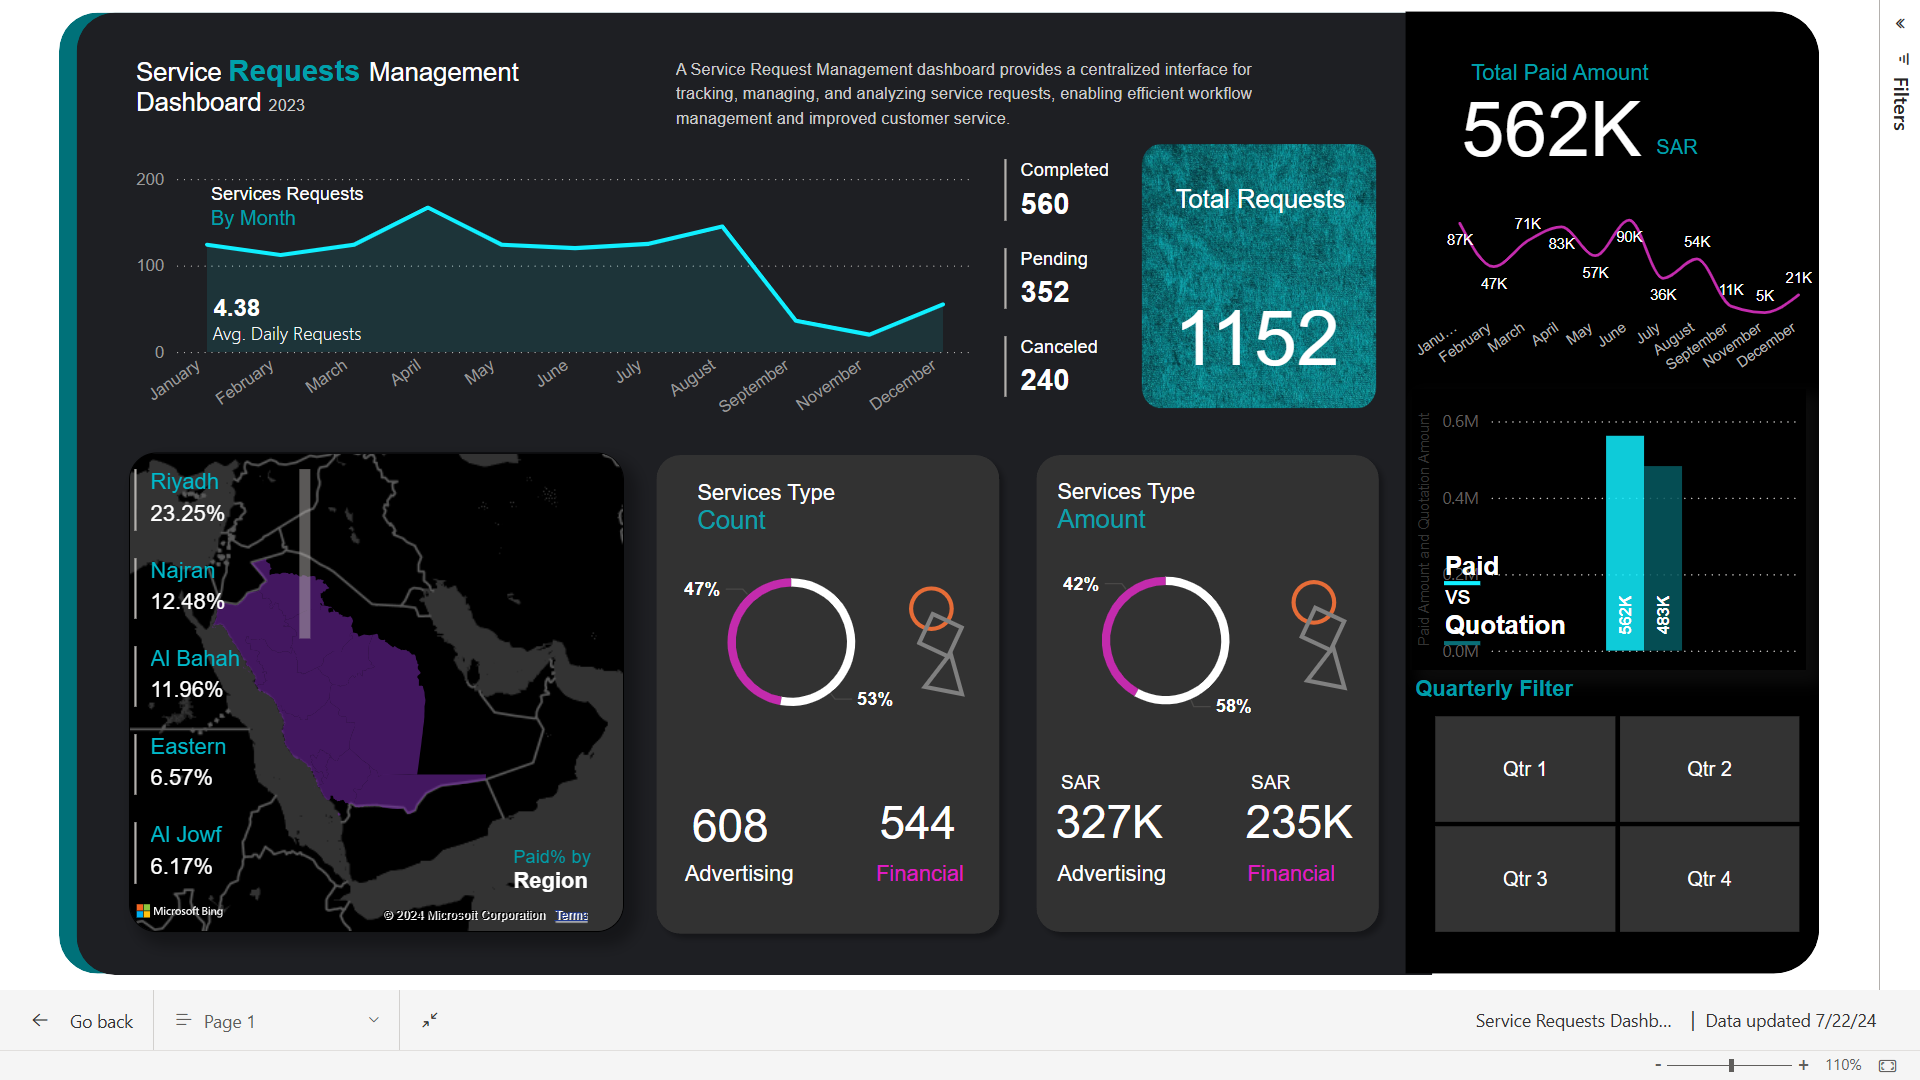

The page's visual inventory and layout, read from the dashboard file:
{"tool":"powerbi","page":{"name":"Page 1","canvas":[1280,720],"ordinal":0},"visuals":[{"type":"shape","box":[0,9,999,699],"z":0},{"type":"shape","box":[702.3,322.1,267.1,365],"z":0,"group":"g1"},{"type":"shape","box":[896.5,422.3,32.6,32.6],"z":0,"group":"g2"},{"type":"shape","box":[618.4,426.7,32.6,32.6],"z":0,"group":"g3"},{"type":"shape","box":[12.8,9.3,986,700],"z":1000},{"type":"donutChart","fields":{"Category":["Service_Type.Service Type"],"Y":["Sum(Request_Status.Paid Amount)"]},"box":[720.6,393.9,168.3,144.8],"z":1000,"group":"g1"},{"type":"shape","box":[902.3,440.9,34.9,34.9],"z":1000,"group":"g2"},{"type":"shape","box":[624.2,445.3,34.9,34.9],"z":1000,"group":"g3"},{"type":"shape","box":[978.8,8.5,301.2,700],"z":2000},{"type":"textbox","box":[721.1,344,158.1,55.7],"z":2000,"group":"g1"},{"type":"shape","box":[903.5,467.6,34.9,34.9],"z":2000,"group":"g2"},{"type":"shape","box":[625.4,472,34.9,34.9],"z":2000,"group":"g3"},{"type":"textbox","box":[51.2,34.9,308.1,57],"z":3000},{"type":"card","fields":{"Values":["Service_Type.Advertising Paid Amount"]},"box":[691.9,554.7,144.2,84.7],"z":3000,"group":"g1"},{"type":"lineChart","fields":{"Category":["Locations.Date.Variation.Date Hierarchy.Month"],"Y":["CountNonNull(Locations.Request Number)"]},"box":[45.2,116.5,624.1,205.8],"z":4000},{"type":"card","fields":{"Values":["Service_Type.Financial Paid Amount"]},"box":[830.5,554.7,144.2,84.7],"z":4000,"group":"g1"},{"type":"textbox","box":[105.8,126.7,184.9,50],"z":5000},{"type":"textbox","box":[721,622.2,102.3,47.6],"z":5000,"group":"g1"},{"type":"textbox","box":[859.3,621.9,102.3,47.6],"z":6000,"group":"g1"},{"type":"textbox","box":[448.8,622.1,102.3,47.7],"z":6000},{"type":"card","fields":{"Values":["Locations.Avg. of Daily Requests"]},"box":[70,177,119,96],"z":7000},{"type":"textbox","box":[723.3,554.7,102.3,47.6],"z":7000,"group":"g1"},{"type":"textbox","box":[106.3,228.4,183.2,45.2],"z":8000},{"type":"textbox","box":[861.7,554.7,102.3,47.6],"z":8000,"group":"g1"},{"type":"multiRowCard","fields":{"Values":["Request_Status.Request Number","Request_Status.Request Status"]},"box":[683,111,132,208],"z":9000},{"type":"image","box":[782.6,100,180.2,202],"z":10000},{"type":"textbox","box":[781.4,130.2,183.7,37.2],"z":11000},{"type":"card","fields":{"Values":["CountNonNull(Request_Status.Request Number)"]},"box":[759.3,179.1,224.4,125.6],"z":12000},{"type":"textbox","box":[998.8,39.5,184.9,50],"z":13000},{"type":"card","fields":{"Values":["Sum(Request_Status.Paid Amount)"]},"box":[939,50,293,80],"z":14000},{"type":"textbox","box":[1120.9,93,111.6,36],"z":15000},{"type":"lineChart","fields":{"Category":["Locations.Date.Variation.Date Hierarchy.Month"],"Y":["Sum(Request_Status.Paid Amount)"]},"box":[979.1,138.4,301.2,144.2],"z":16000},{"type":"clusteredColumnChart","fields":{"Y":["Sum(Request_Status.Paid Amount)","Sum(Request_Status.Quotation Amount)"]},"box":[983.7,282.6,287.2,204.7],"z":17000},{"type":"textbox","box":[1002.3,396.5,167.4,79.1],"z":18000},{"type":"shape","box":[1007,414,26.7,20.9],"z":19000},{"type":"shape","box":[1007,457,26.7,20.9],"z":20000},{"type":"filledMap","fields":{"Category":["Locations.Province"]},"box":[50.6,329,360,349],"z":21000},{"type":"textbox","box":[325.7,608.4,85,47.9],"z":22000},{"type":"shape","box":[425.6,322.1,267.4,366.3],"z":23000},{"type":"group","id":"g1","title":"Group 1","box":[691.9,322.1,282.8,365],"z":24000},{"type":"card","fields":{"Values":["Service_Type.Financial Count"]},"box":[552.5,555.8,144.2,84.9],"z":25000},{"type":"textbox","box":[459.3,344.2,158.1,52.3],"z":26000},{"type":"card","fields":{"Values":["Service_Type.Advertising Count"]},"box":[416.3,557,144.2,84.9],"z":27000},{"type":"donutChart","fields":{"Category":["Service_Type.Service Type"],"Y":["CountNonNull(Service_Type.Request Number)"]},"box":[448.8,394.2,167.4,145.3],"z":28000},{"type":"textbox","box":[589.5,622.1,102.3,47.7],"z":29000},{"type":"textbox","box":[450,622.1,102.3,47.7],"z":30000},{"type":"advancedSlicerVisual","fields":{"Values":["Locations.Date.Variation.Date Hierarchy.Quarter"]},"box":[1001.2,501.2,265.1,197.7],"z":31000},{"type":"multiRowCard","fields":{"Values":["Locations.Province","Sum(Service_Type.Paid Amount)"]},"box":[50.3,336.5,137.7,319.8],"z":32000},{"type":"textbox","box":[986,492,187.2,39.5],"z":33000},{"type":"group","id":"g2","title":"Group 2","box":[896.5,422.3,41.9,80.2],"z":34000},{"type":"group","id":"g3","title":"Group 2","box":[618.4,426.7,41.9,80.2],"z":35000},{"type":"textbox","box":[431.9,35.1,474.9,79.1],"z":36000}]}

Visuals, with their boxes on the page's 1280x720 design canvas (x1, y1, x2, y2). These are canvas units, not pixel positions in the 1920x1080 screenshot, which may show the page scaled, cropped or inside an application window:
shape: region(0, 9, 999, 708)
shape: region(702, 322, 969, 687)
shape: region(896, 422, 929, 455)
shape: region(618, 427, 651, 459)
shape: region(13, 9, 999, 709)
donutChart - Service_Type.Service Type x Sum(Request_Status.Paid Amount): region(721, 394, 889, 539)
shape: region(902, 441, 937, 476)
shape: region(624, 445, 659, 480)
shape: region(979, 8, 1280, 708)
textbox: region(721, 344, 879, 400)
shape: region(904, 468, 938, 502)
shape: region(625, 472, 660, 507)
textbox: region(51, 35, 359, 92)
card - Service_Type.Advertising Paid Amount: region(692, 555, 836, 639)
lineChart - Locations.Date.Variation.Date Hierarchy.Month x CountNonNull(Locations.Request Number): region(45, 116, 669, 322)
card - Service_Type.Financial Paid Amount: region(830, 555, 975, 639)
textbox: region(106, 127, 291, 177)
textbox: region(721, 622, 823, 670)
textbox: region(859, 622, 962, 670)
textbox: region(449, 622, 551, 670)
card - Locations.Avg. of Daily Requests: region(70, 177, 189, 273)
textbox: region(723, 555, 826, 602)
textbox: region(106, 228, 290, 274)
textbox: region(862, 555, 964, 602)
multiRowCard - Request_Status.Request Number x Request_Status.Request Status: region(683, 111, 815, 319)
image: region(783, 100, 963, 302)
textbox: region(781, 130, 965, 167)
card - CountNonNull(Request_Status.Request Number): region(759, 179, 984, 305)
textbox: region(999, 40, 1184, 90)
card - Sum(Request_Status.Paid Amount): region(939, 50, 1232, 130)
textbox: region(1121, 93, 1232, 129)
lineChart - Locations.Date.Variation.Date Hierarchy.Month x Sum(Request_Status.Paid Amount): region(979, 138, 1280, 283)
clusteredColumnChart - Sum(Request_Status.Paid Amount) x Sum(Request_Status.Quotation Amount): region(984, 283, 1271, 487)
textbox: region(1002, 396, 1170, 476)
shape: region(1007, 414, 1034, 435)
shape: region(1007, 457, 1034, 478)
filledMap - Locations.Province: region(51, 329, 411, 678)
textbox: region(326, 608, 411, 656)
shape: region(426, 322, 693, 688)
"Group 1" group: region(692, 322, 975, 687)
card - Service_Type.Financial Count: region(552, 556, 697, 641)
textbox: region(459, 344, 617, 396)
card - Service_Type.Advertising Count: region(416, 557, 560, 642)
donutChart - Service_Type.Service Type x CountNonNull(Service_Type.Request Number): region(449, 394, 616, 540)
textbox: region(590, 622, 692, 670)
textbox: region(450, 622, 552, 670)
advancedSlicerVisual - Locations.Date.Variation.Date Hierarchy.Quarter: region(1001, 501, 1266, 699)
multiRowCard - Locations.Province x Sum(Service_Type.Paid Amount): region(50, 336, 188, 656)
textbox: region(986, 492, 1173, 532)
"Group 2" group: region(896, 422, 938, 502)
"Group 2" group: region(618, 427, 660, 507)
textbox: region(432, 35, 907, 114)
